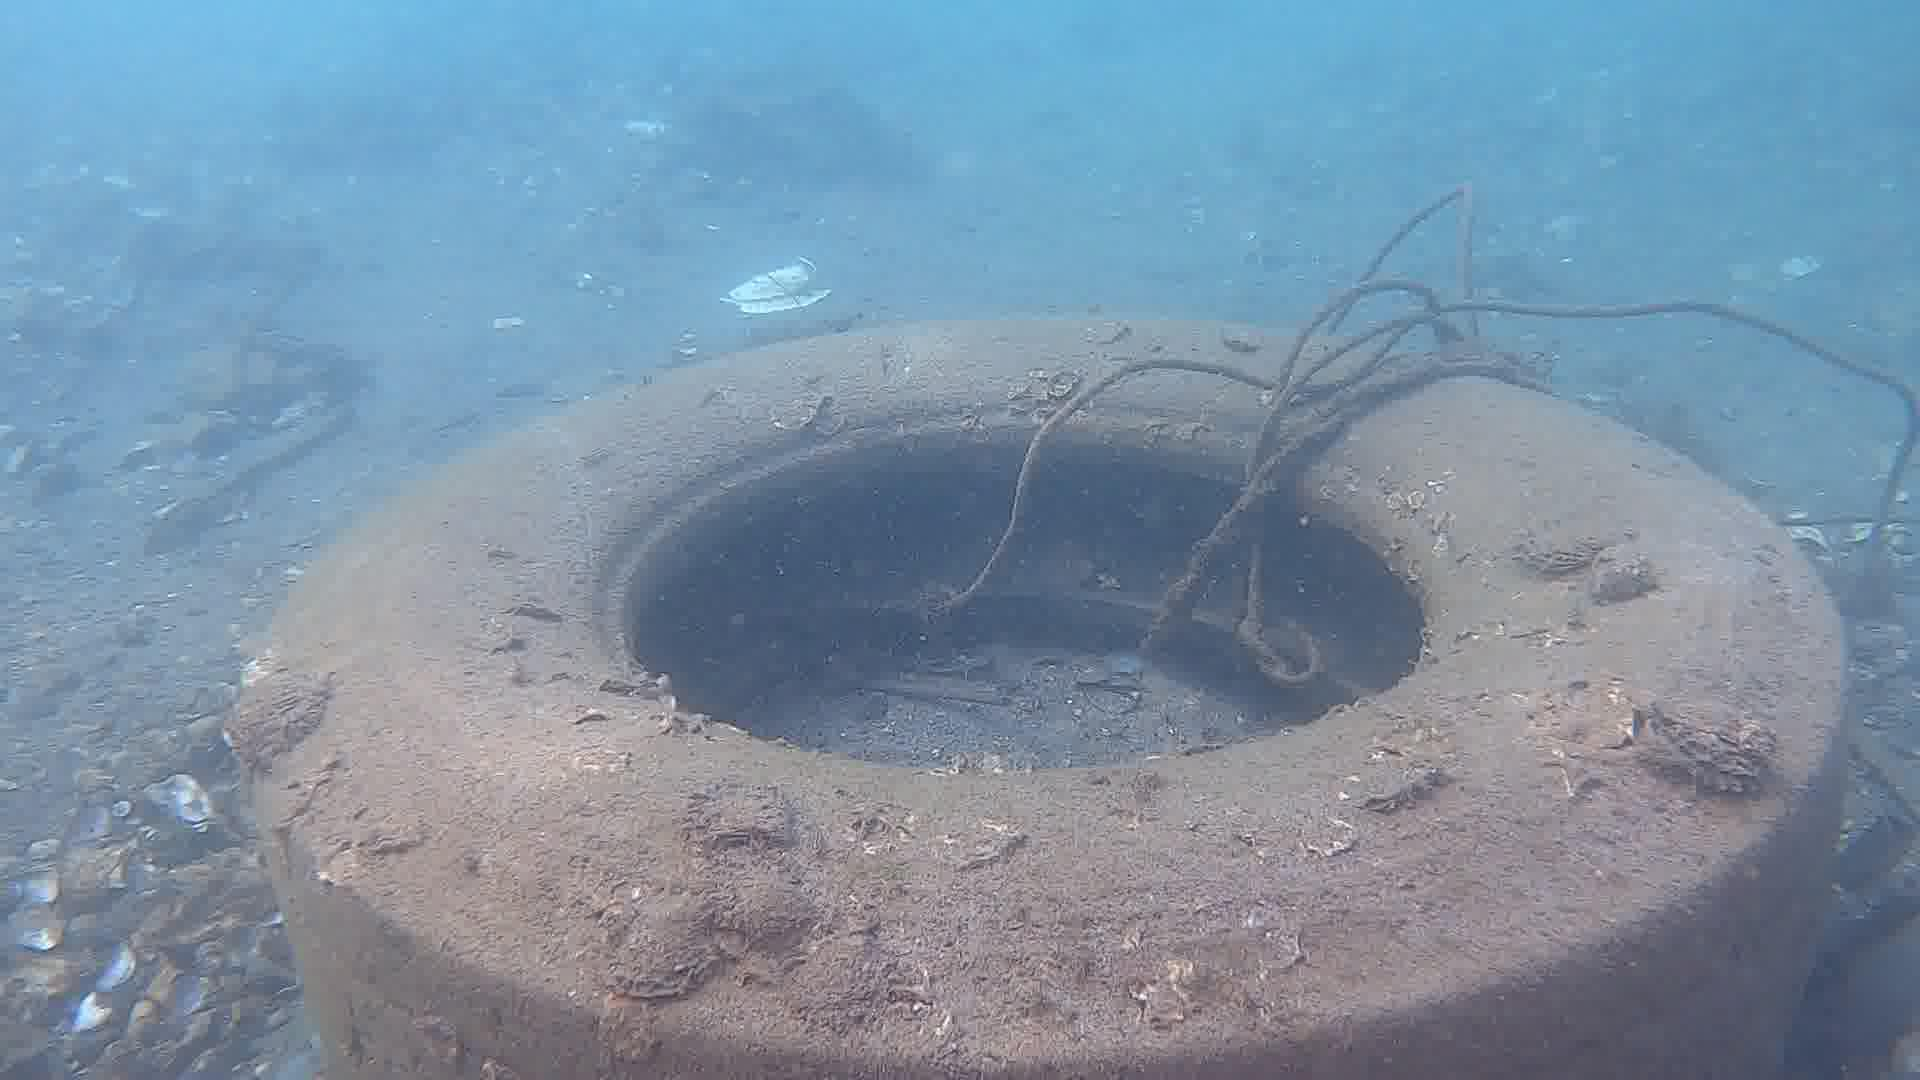bundle of ropes: (942, 179, 1920, 684)
tire: (243, 315, 1849, 1080)
